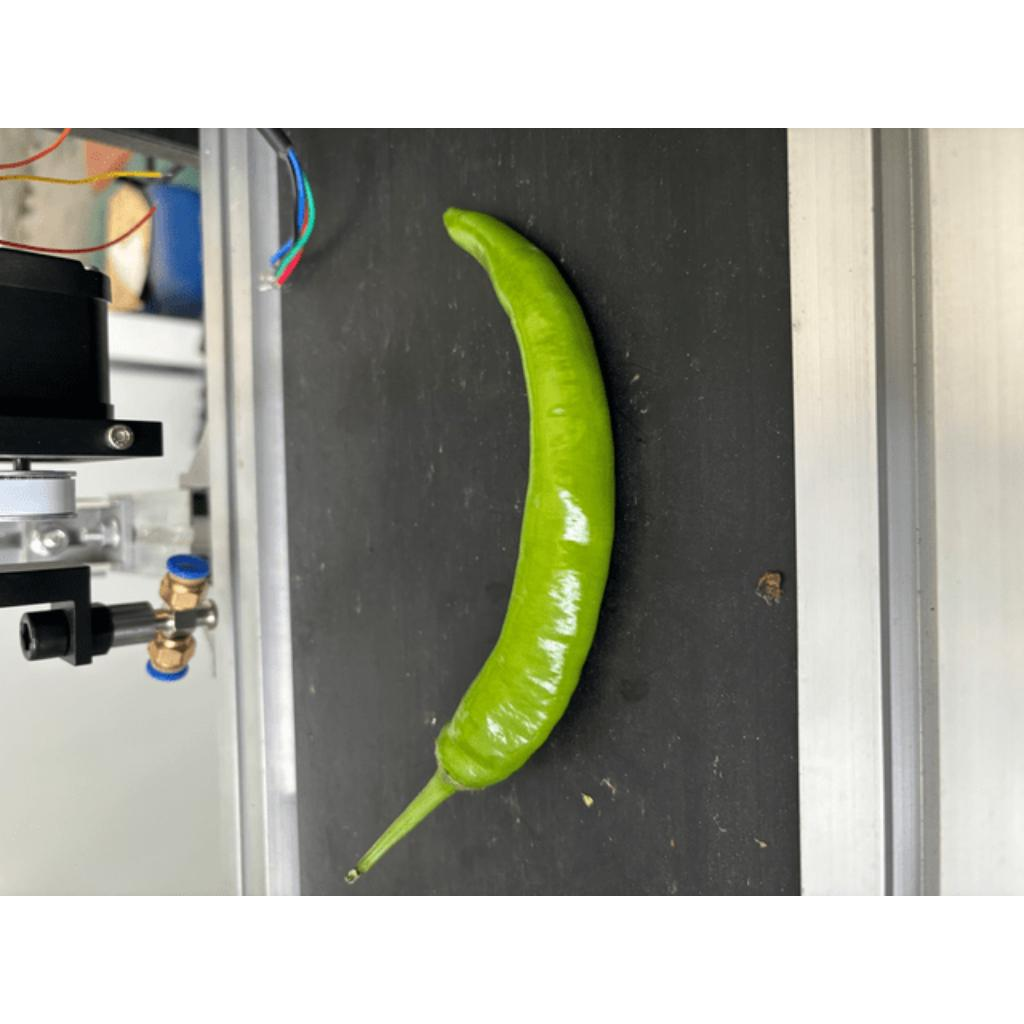chili: (432, 207, 618, 794)
